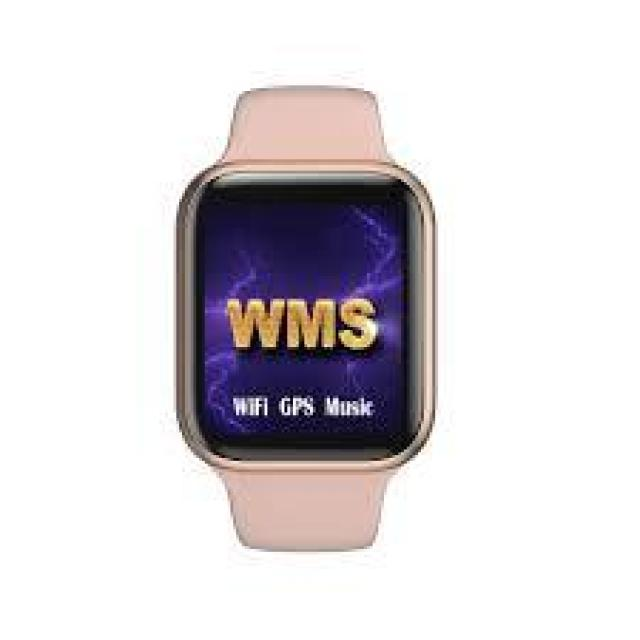watch: (142, 61, 506, 581)
